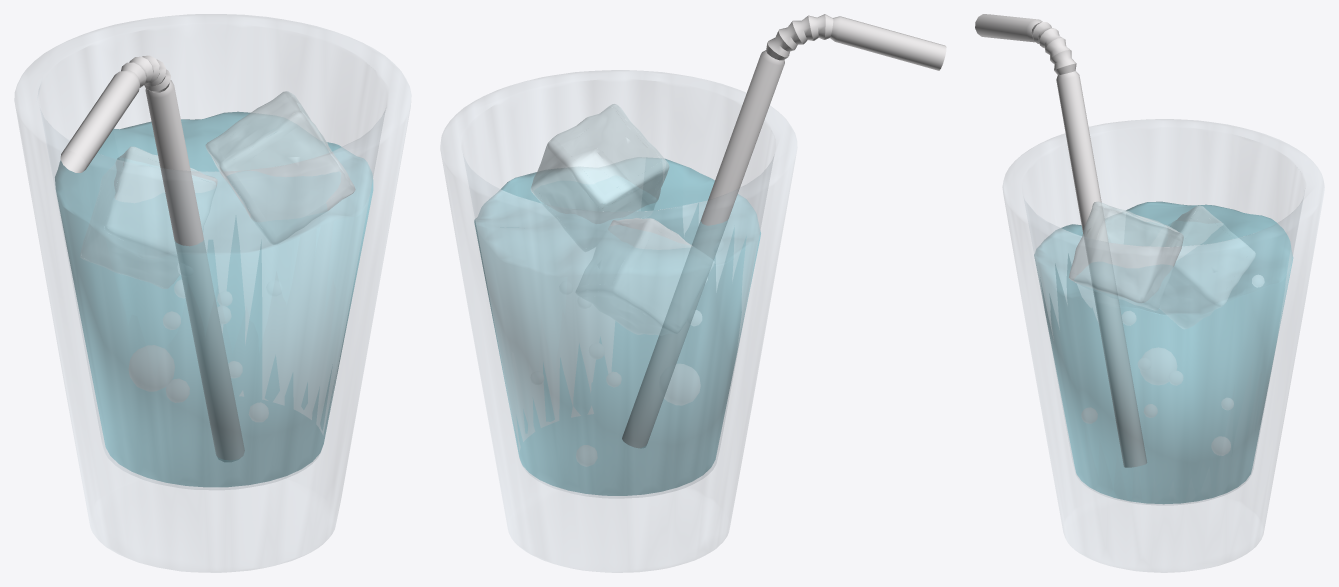
3 renders of one model, left to right at view 1: azimuth 30°, elevation 25°; view 2: azimuth 150°, elevation 25°; view 3: azimuth 270°, elevation 25°, orthographic. The views are drawn at different scales.
Parts seen in each view (by area): view 1: su; view 2: su; view 3: su.
Part boxes in pixels (x1=…): su: x1=15, y1=14, x2=410, y2=572; su: x1=441, y1=14, x2=946, y2=572; su: x1=975, y1=14, x2=1324, y2=572.
Bounding box in the file's own units: 0.0815 × 0.1 × 0.0708.
Materials: 3 (3 with a texture image).
